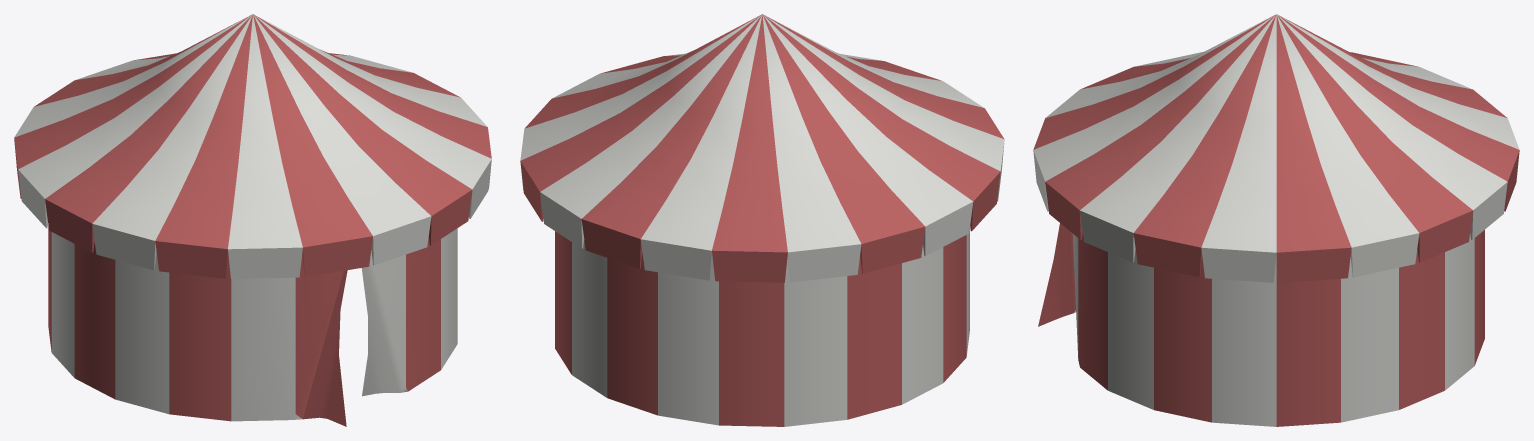
File: TentRed.fbx
3 views of the same model, side by side, from view 1: azimuth 30°, elevation 25°; view 2: azimuth 150°, elevation 25°; view 3: azimuth 270°, elevation 25° (orthographic).
Visible parts, largest first — view 1: TentRed; view 2: TentRed; view 3: TentRed.
Part boxes in pixels (x1,y1,x2,y2): TentRed: (14, 14, 491, 426); TentRed: (520, 14, 1004, 426); TentRed: (1033, 14, 1519, 426).
Bounding box in the file's own units: 7 × 5.16 × 7.
